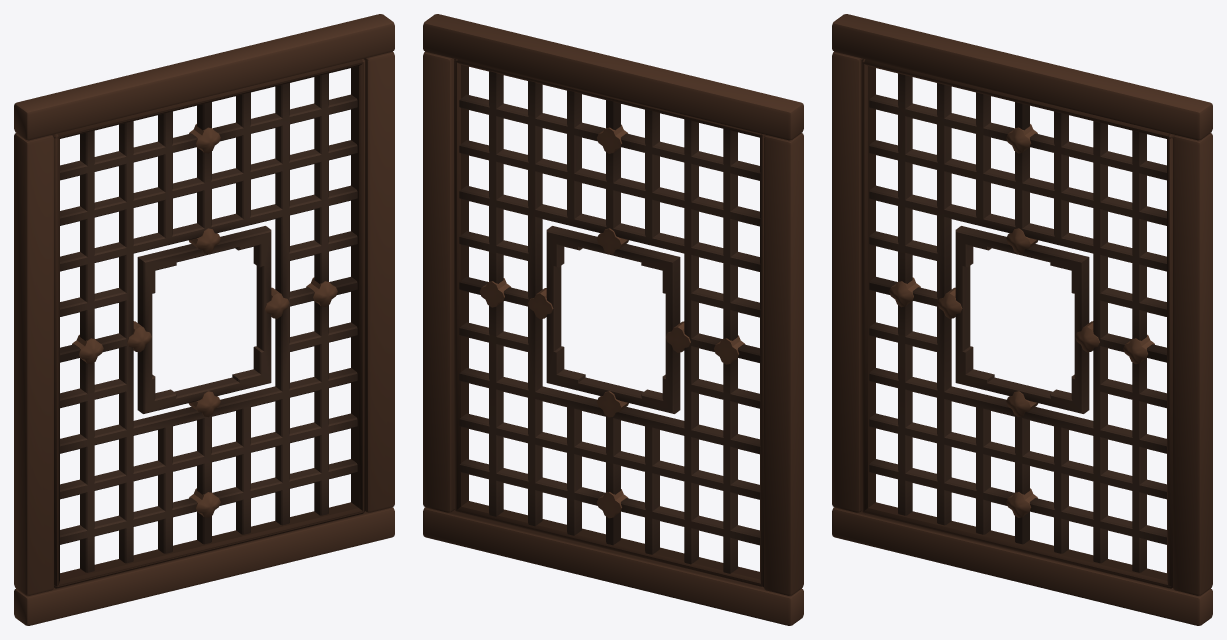
Rendered from lattice-window.glb.
3 views of the same model, side by side, from view 1: azimuth 30°, elevation 25°; view 2: azimuth 150°, elevation 25°; view 3: azimuth 330°, elevation 25° (orthographic).
Parts seen in each view (by area): view 1: lattice-window; view 2: lattice-window; view 3: lattice-window.
Boxes of the visible parts, box(x1,y1,x2,y2) form: lattice-window: box(14, 14, 394, 625); lattice-window: box(423, 14, 803, 625); lattice-window: box(832, 14, 1212, 625).
Size of the model in its own units: 0.9 by 1.2 by 0.06.
